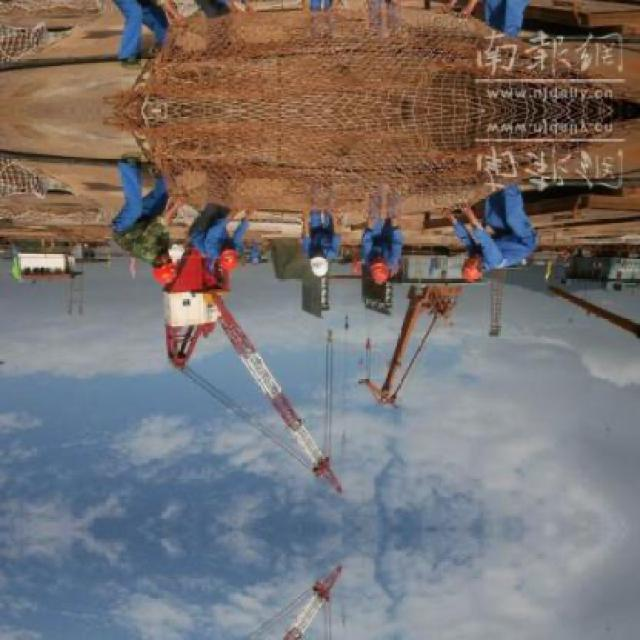con casco: (193, 214, 290, 280), (447, 228, 518, 294), (268, 240, 341, 293), (355, 244, 422, 299), (135, 234, 193, 274)
